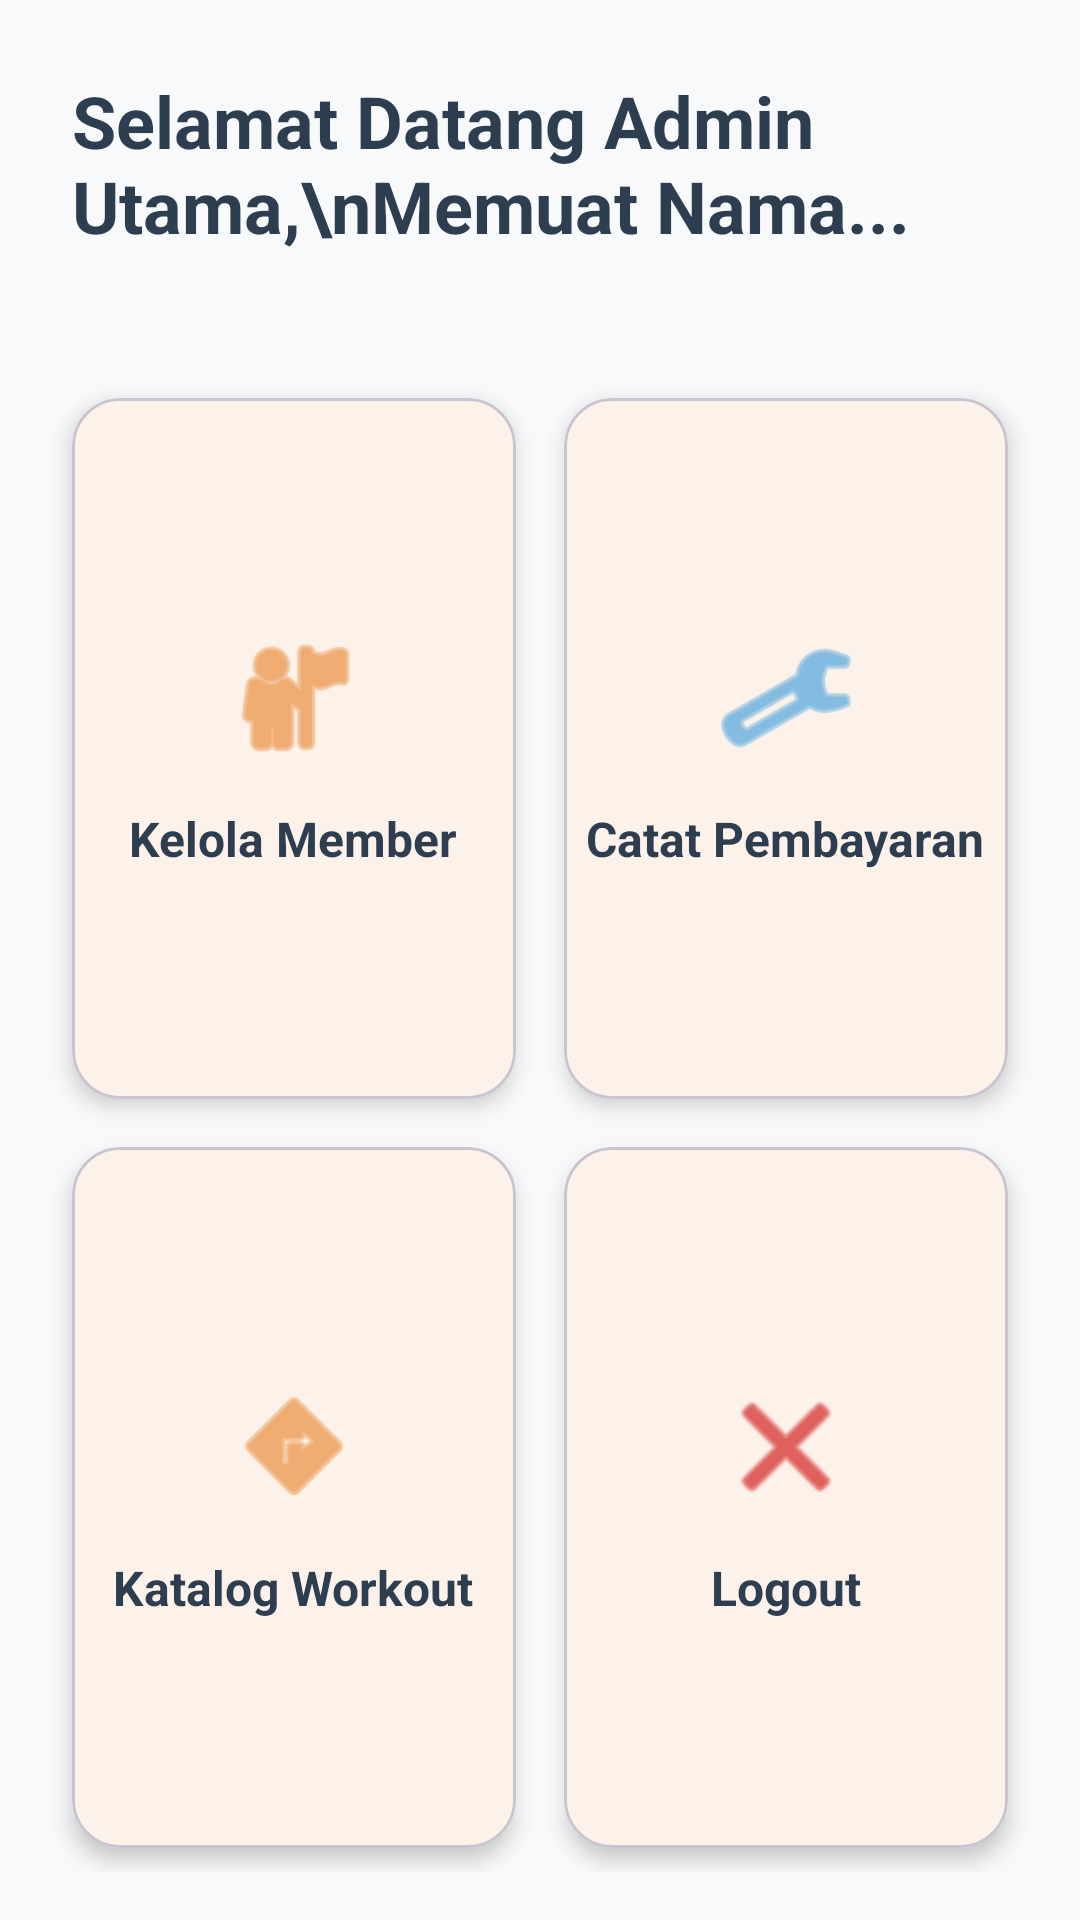

Named icons in this screenshot (1080px×1920px) and their centers, (x,y):
close clear cancel: (786,1447)
directions: (294,1446)
manage: (786,698)
myplaces: (295,698)
